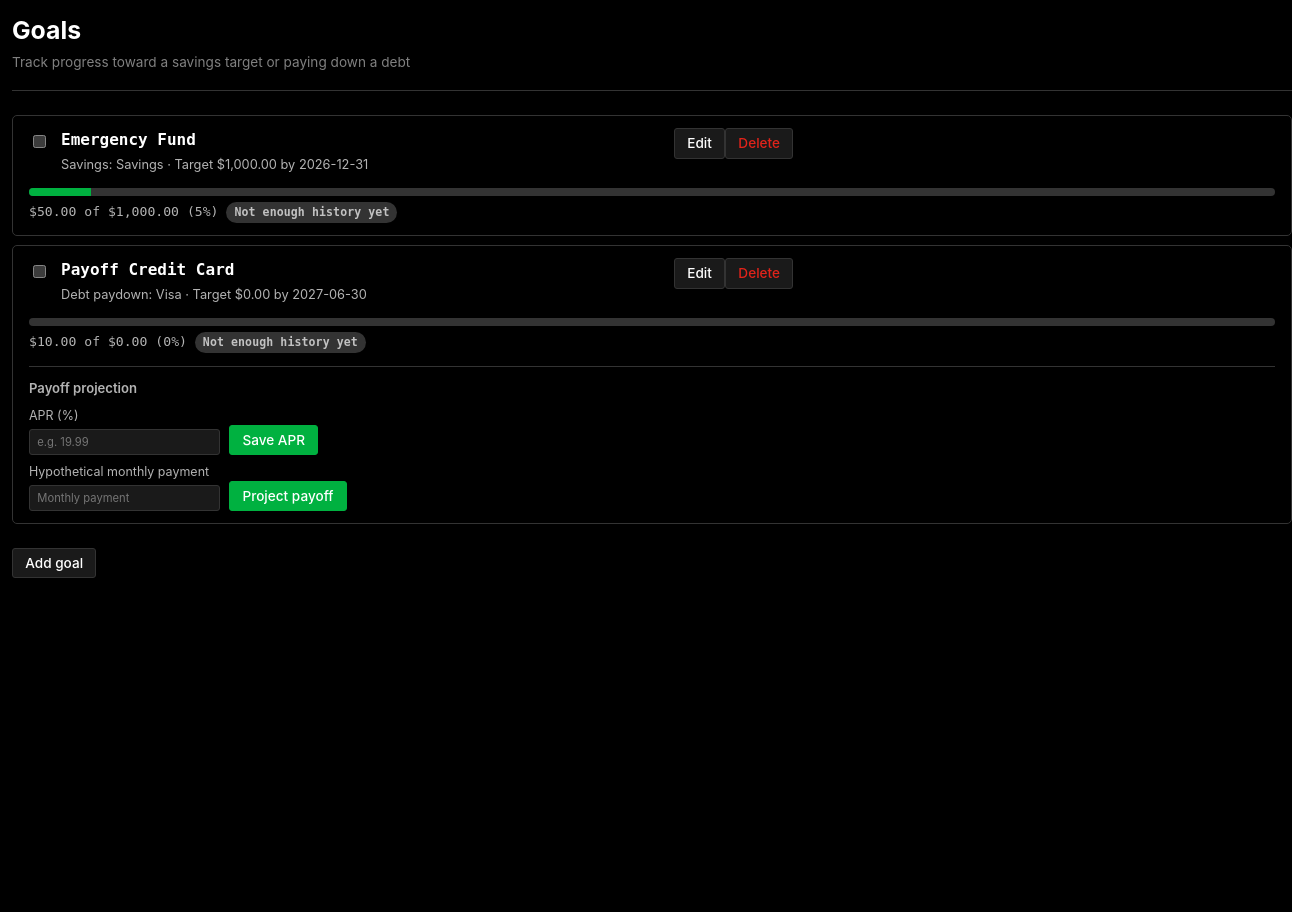
Test: GoalsScreen keyboard grid navigation and shortcuts (ADR-0020, #81) › clicking a row's checkbox selects it and shows the bulk actions bar
Check: the text "Emergency Fund" is shown, box left=61, top=130, right=196, bottom=149
Check: the text "Payoff Credit Card" is shown, box left=61, top=260, right=234, bottom=279
What coordinates should you click on to do the following:
click the checkbox named "Select Emergency Fund"
I would click on:
 (40, 141)
Its box is left=33, top=134, right=46, bottom=148.
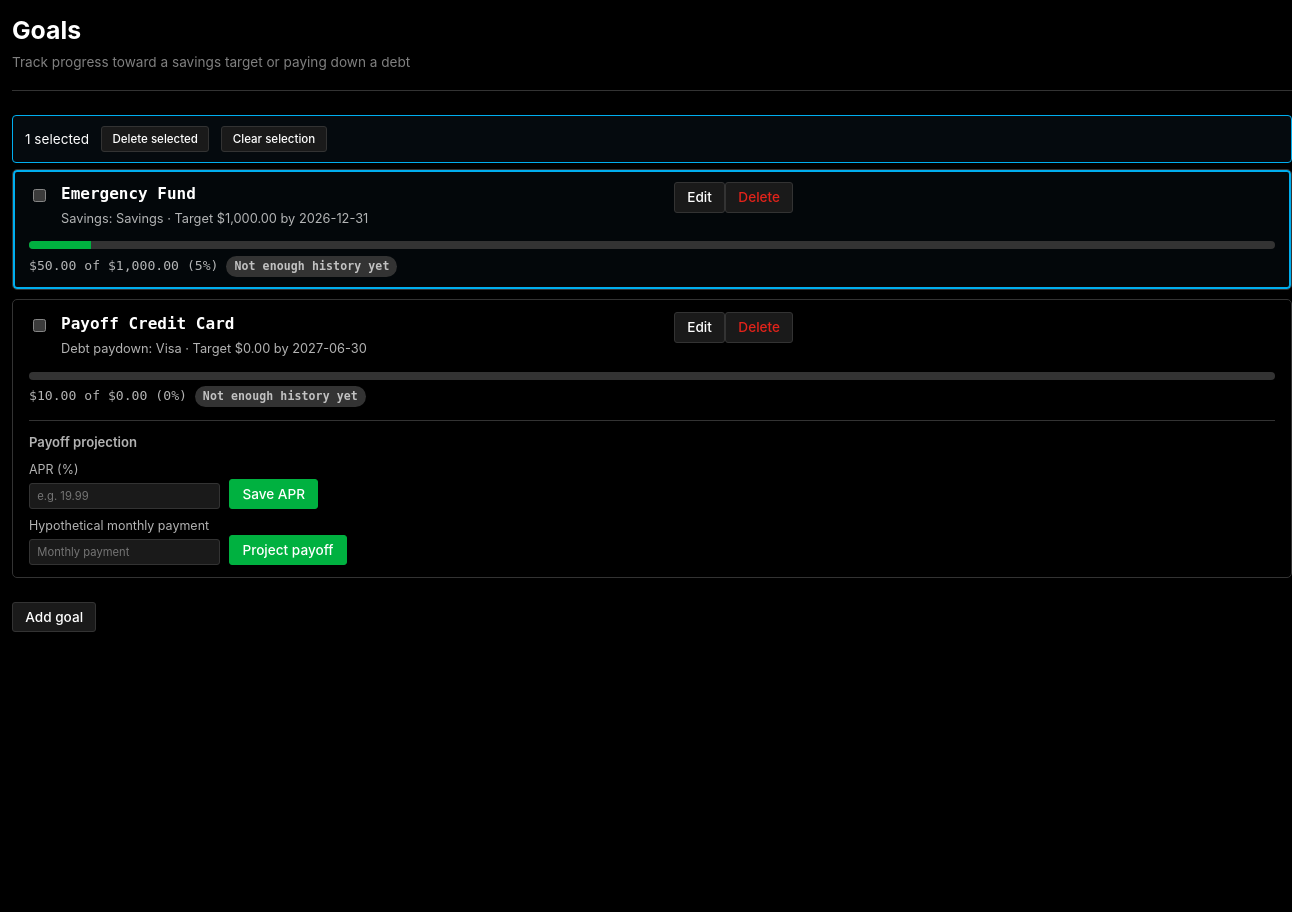
Check: the text "1 selected" is shown, box left=25, top=129, right=89, bottom=149
